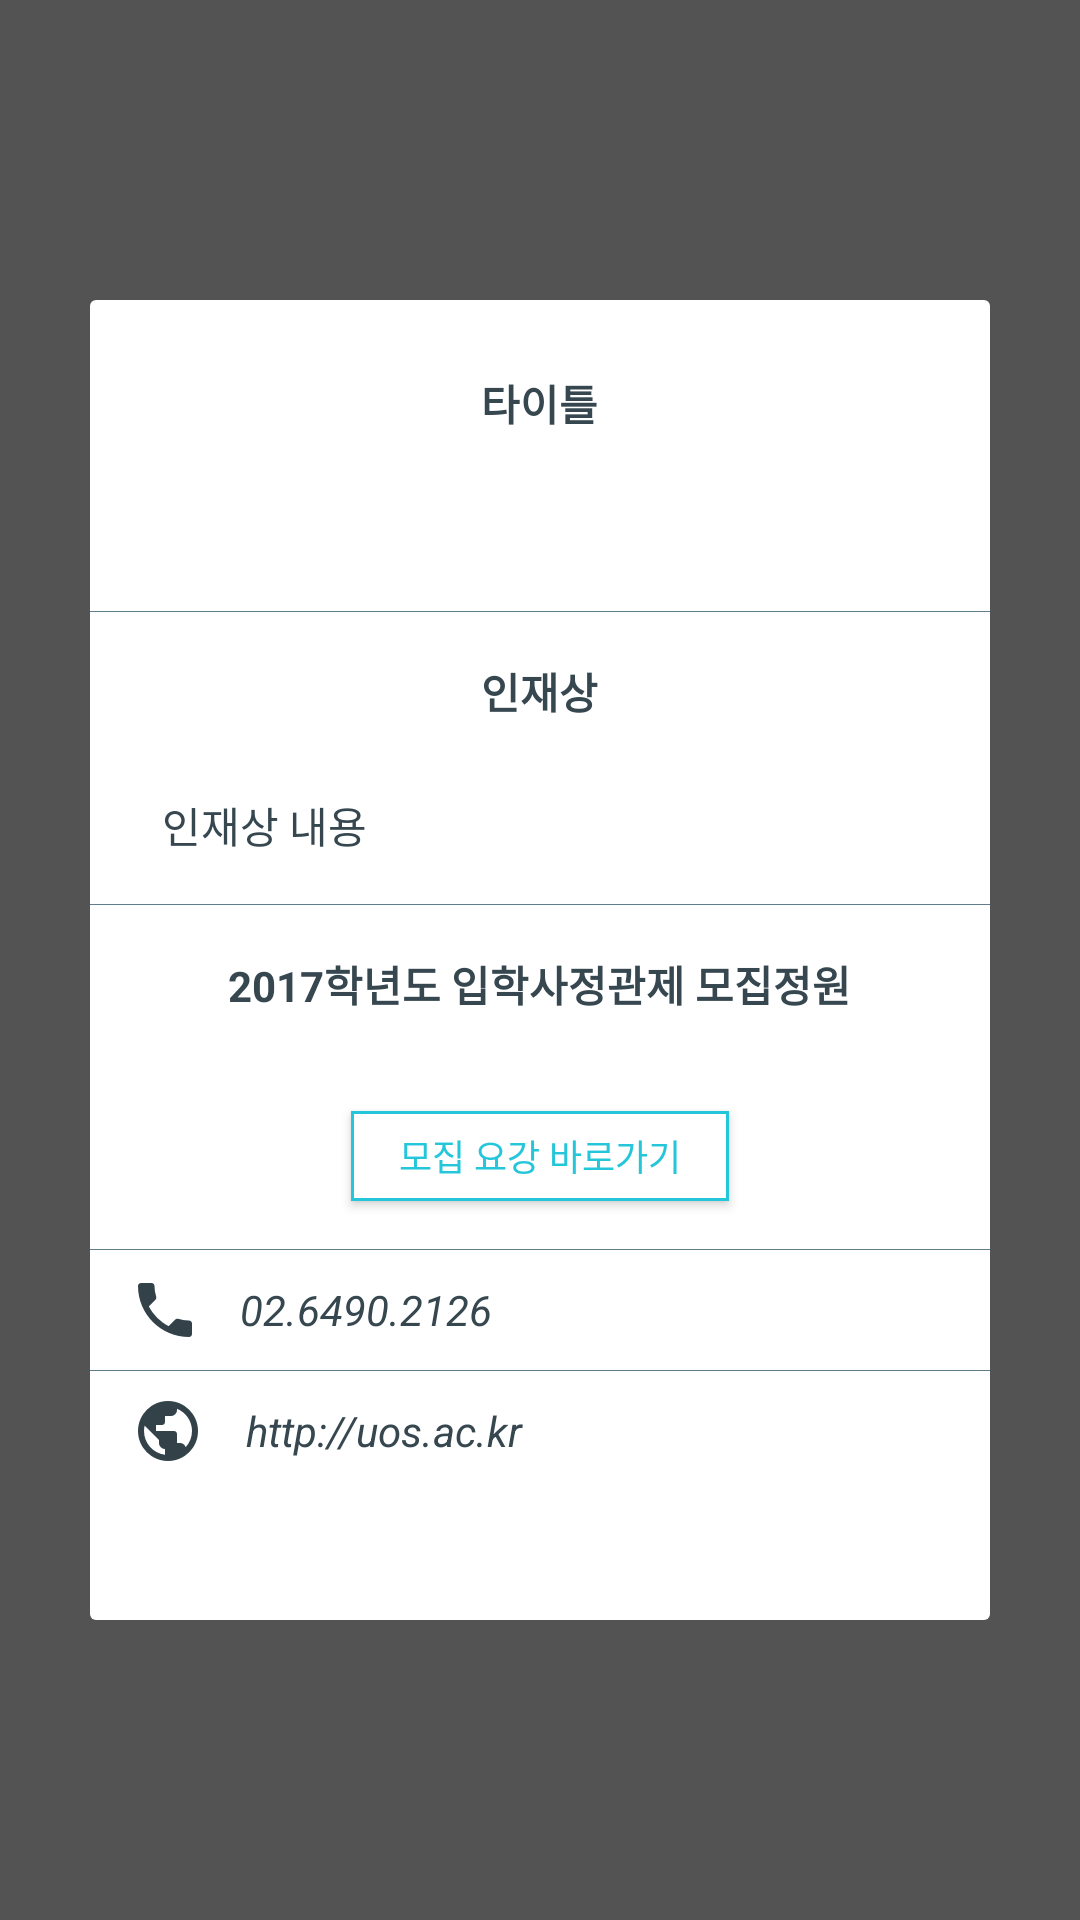

Screen size 1080px×1920px. Icon name, then its center in pixels as (x,y):
department phone: (165,1310)
department web: (168,1431)
